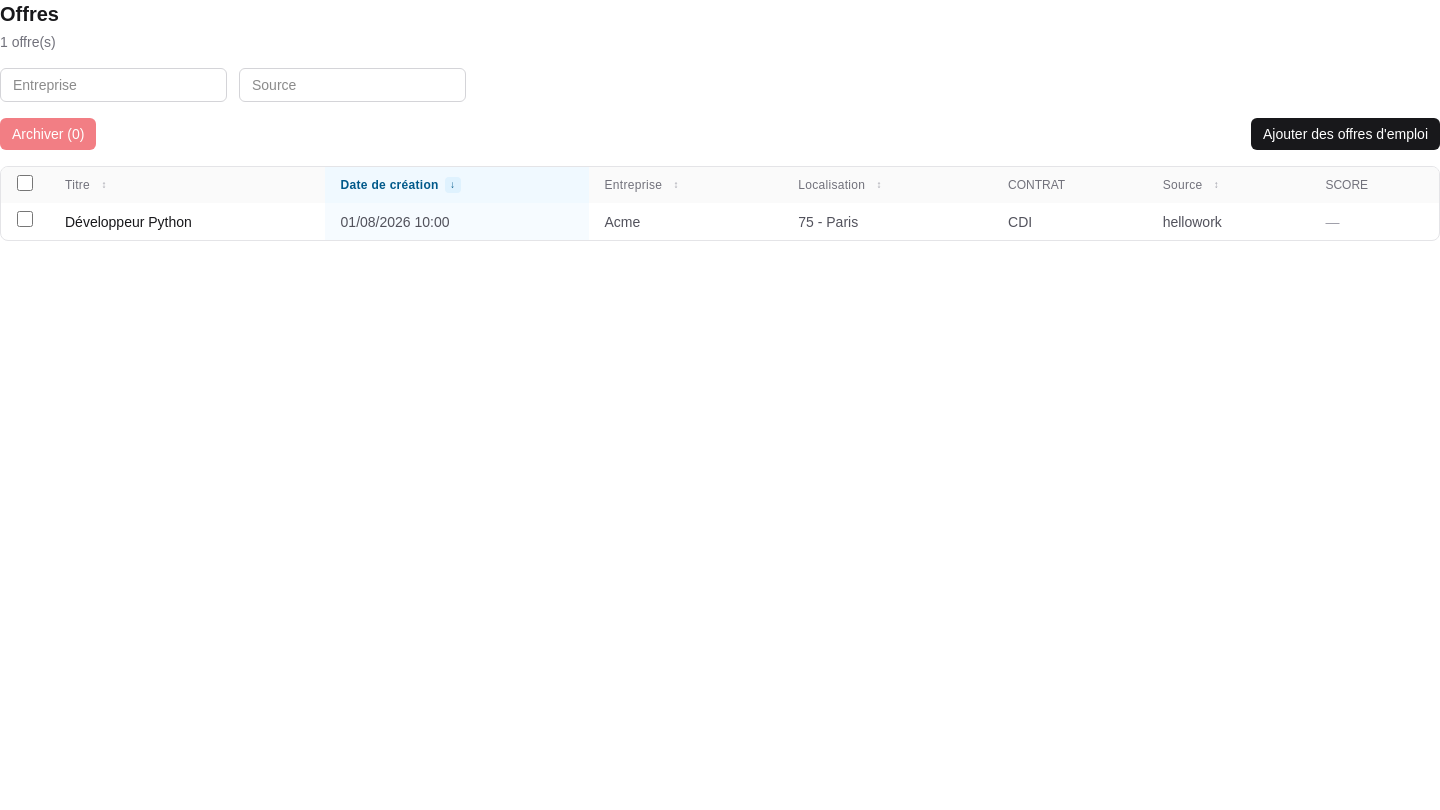
OffersBrowser › ouvre la modale d'ajout au clic
Click the button "Ajouter des offres d'emploi" at (1345, 134), box top-left (1251, 118), bottom-right (1439, 150)
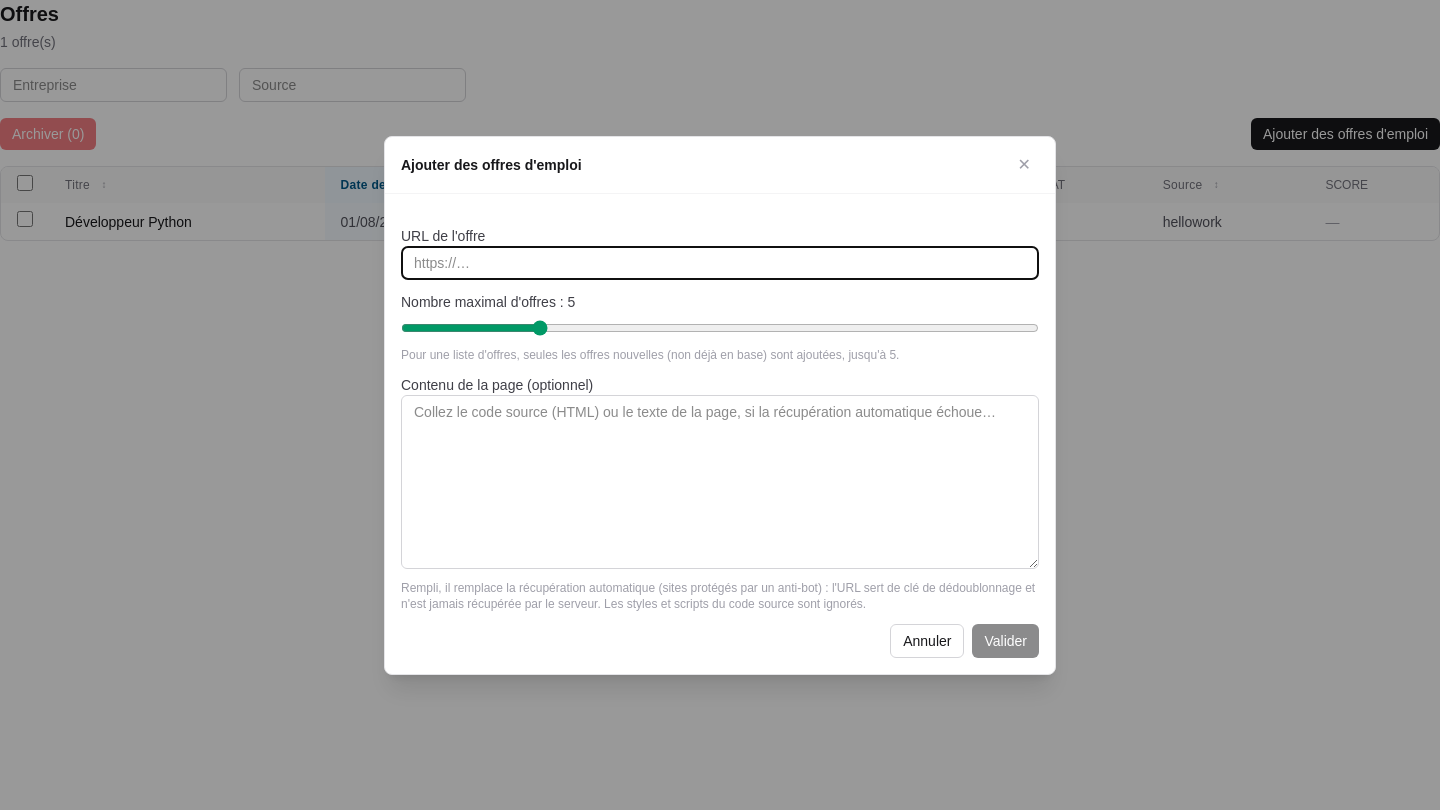
Expected: the field labelled "URL de l'offre" is shown, top-left (401, 246), bottom-right (1039, 280)
Expected: the button "Valider" is shown, top-left (972, 624), bottom-right (1039, 658)
